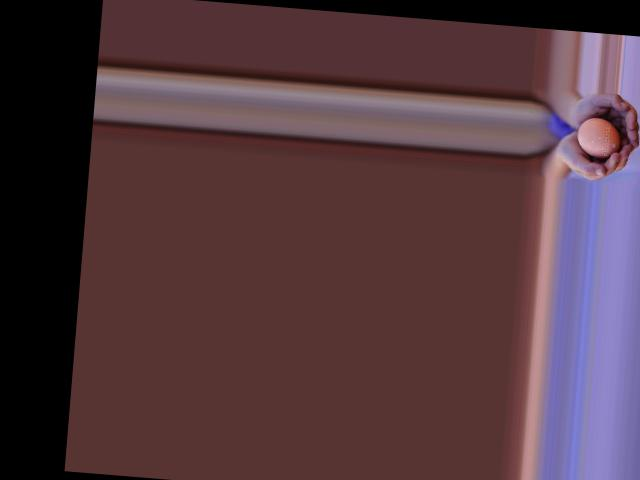egg: (575, 115, 622, 159)
